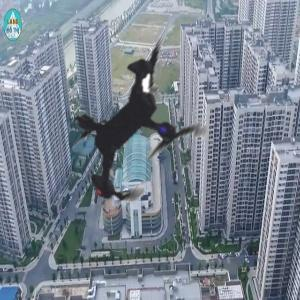drone: (12, 4, 264, 256)
